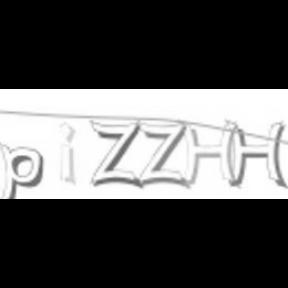H: (230, 119, 288, 189), (181, 122, 236, 186)
Z: (88, 118, 142, 190), (139, 121, 189, 189)
i: (55, 122, 80, 186)
p: (0, 142, 46, 200)
